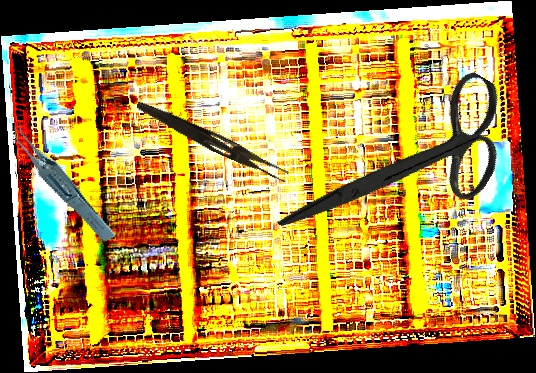Dressing Forceps: (132, 99, 292, 183)
Iris Scissors: (276, 24, 533, 306)
Tissue Forceps: (9, 105, 117, 257)
